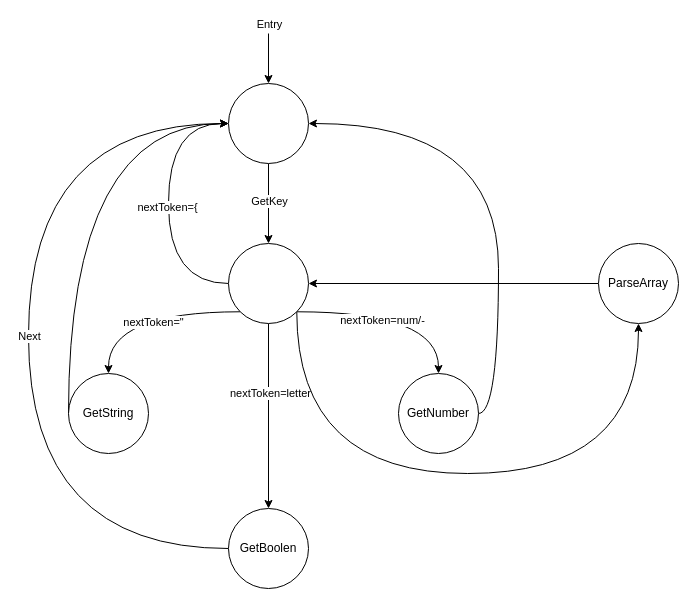
This 696x606 diagram has some shape labels left out. Here are the shapes that lost their labels. From the top down, the centre of each, then its label:
At (268,123): "ParseObject".
At (268,283): "ParseValue".
